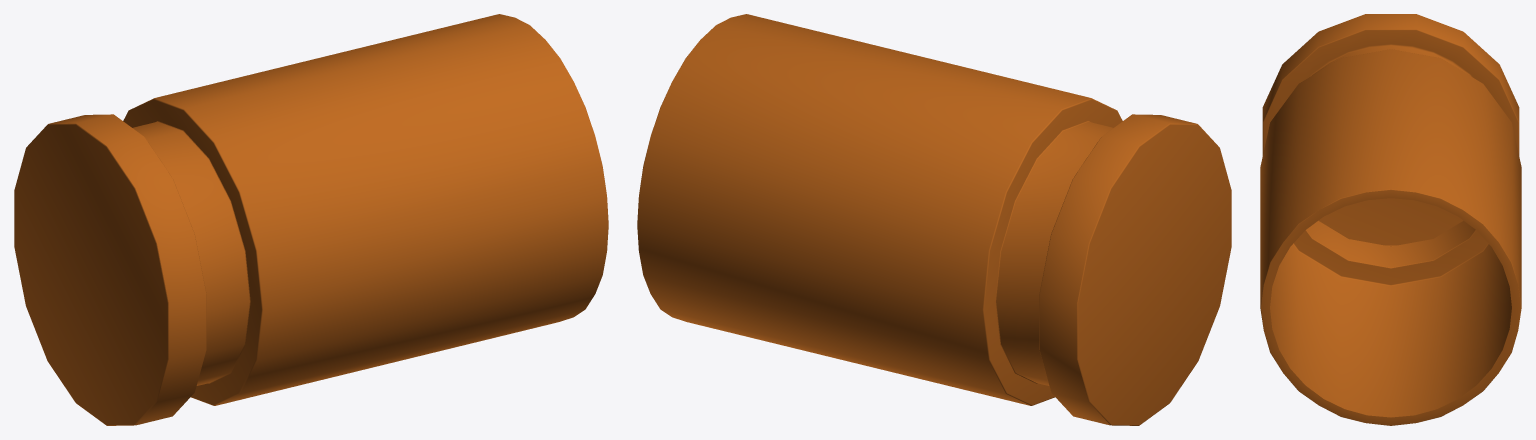
File: casquillo.fbx
3 renders of one model, left to right at view 1: azimuth 30°, elevation 25°; view 2: azimuth 150°, elevation 25°; view 3: azimuth 270°, elevation 25°, orthographic. The views are drawn at different scales.
Visible parts, largest first — view 1: Cylinder.001; view 2: Cylinder.001; view 3: Cylinder.001.
Boxes of the visible parts, x1,y1,x2,y2 form: Cylinder.001: (14,14,608,425); Cylinder.001: (637,14,1231,425); Cylinder.001: (1260,14,1521,425).
Size of the model in its own units: 15.06 by 9.35 by 9.35.
